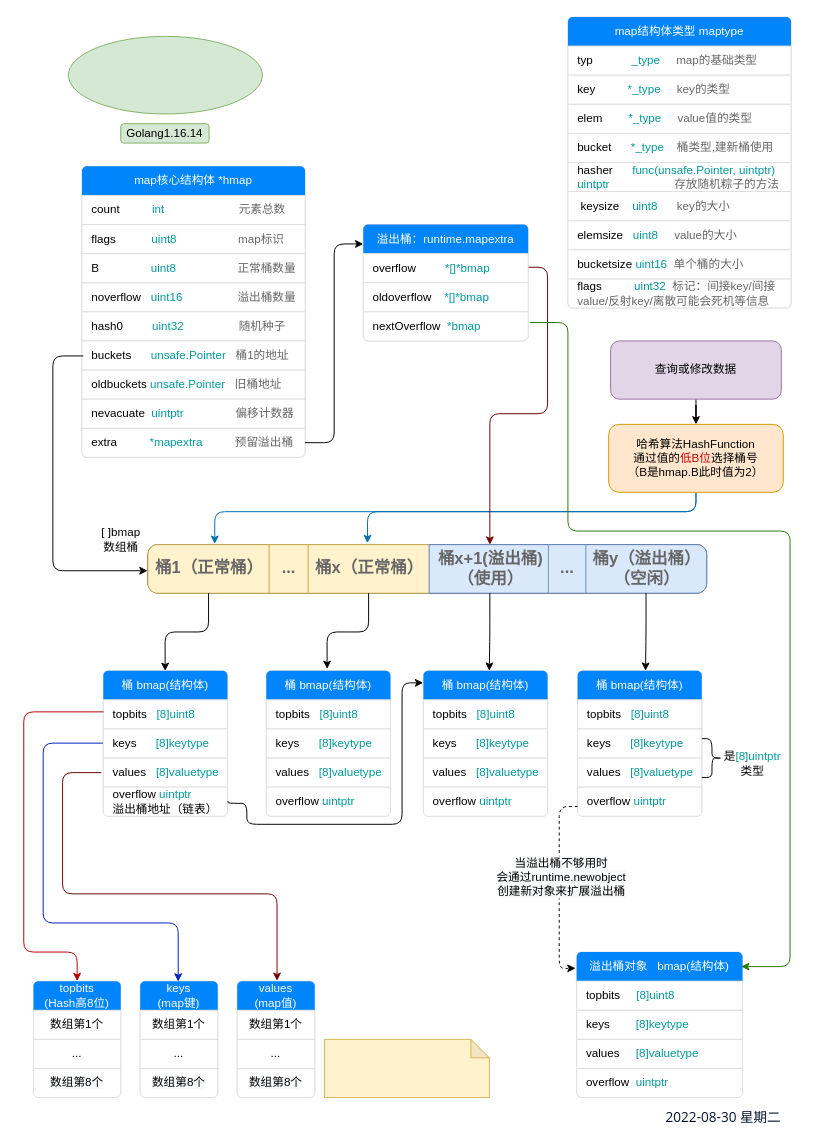
Image size: 815x1145. Some labels were removed from this diagram. Each missing label, with the centre of its shape:
Golang Map 原理: point 164,74
哈希冲突采用的是： “开放寻址式中的线性探测策略” 加“拉链法“共同完成的: point 406,1068
